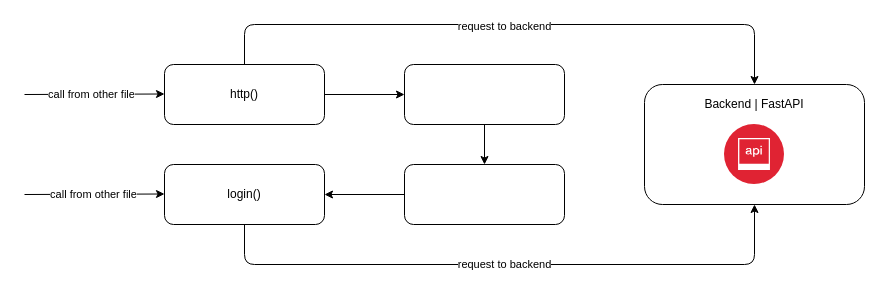
The diagram is 882 pixels wide and 290 high, and some of its shapes have lost their labels. Here are the shapes that lost their labels. From the top down, the centre of each, then its label:
At (484,94): "checkAndRenewJWT()".
At (484,194): "isExpired()".
